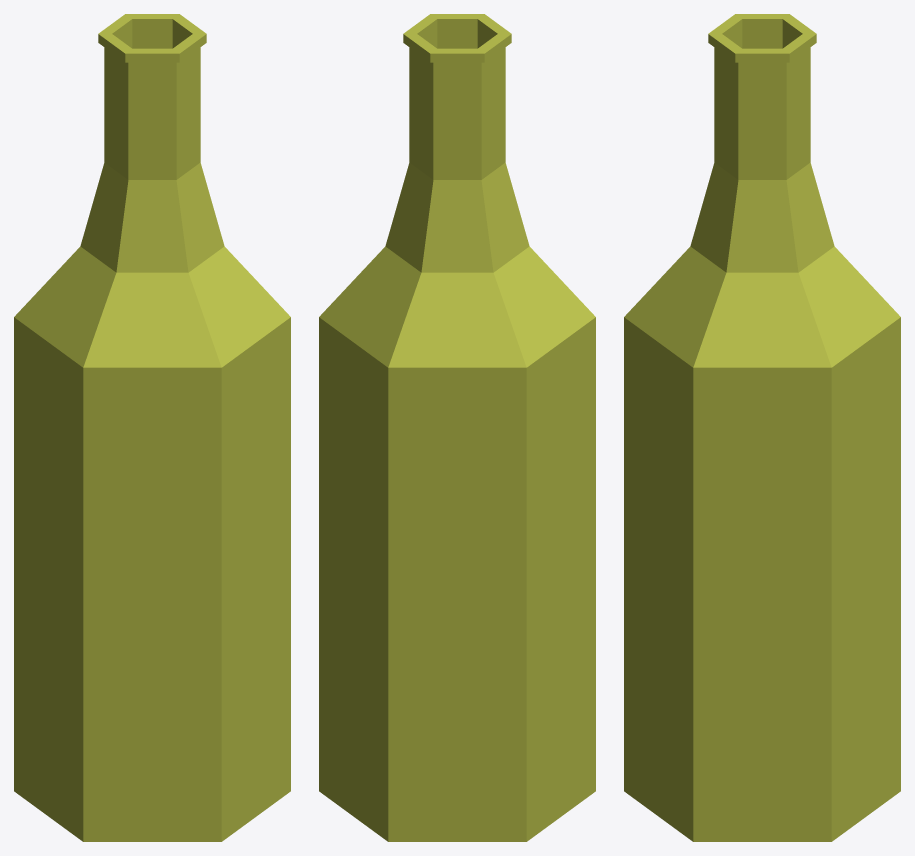
File: Bottle.fbx
The picture shows the model from 3 angles, left to right: view 1: azimuth 30°, elevation 25°; view 2: azimuth 150°, elevation 25°; view 3: azimuth 270°, elevation 25°; orthographic projection.
Visible parts, largest first — view 1: Bottle; view 2: Bottle; view 3: Bottle.
Boxes of the visible parts, x1,y1,x2,y2 form: Bottle: (14, 14, 290, 841); Bottle: (319, 14, 595, 841); Bottle: (624, 14, 900, 841).
Bounding box in the file's own units: 11.43 × 39.83 × 13.2.
